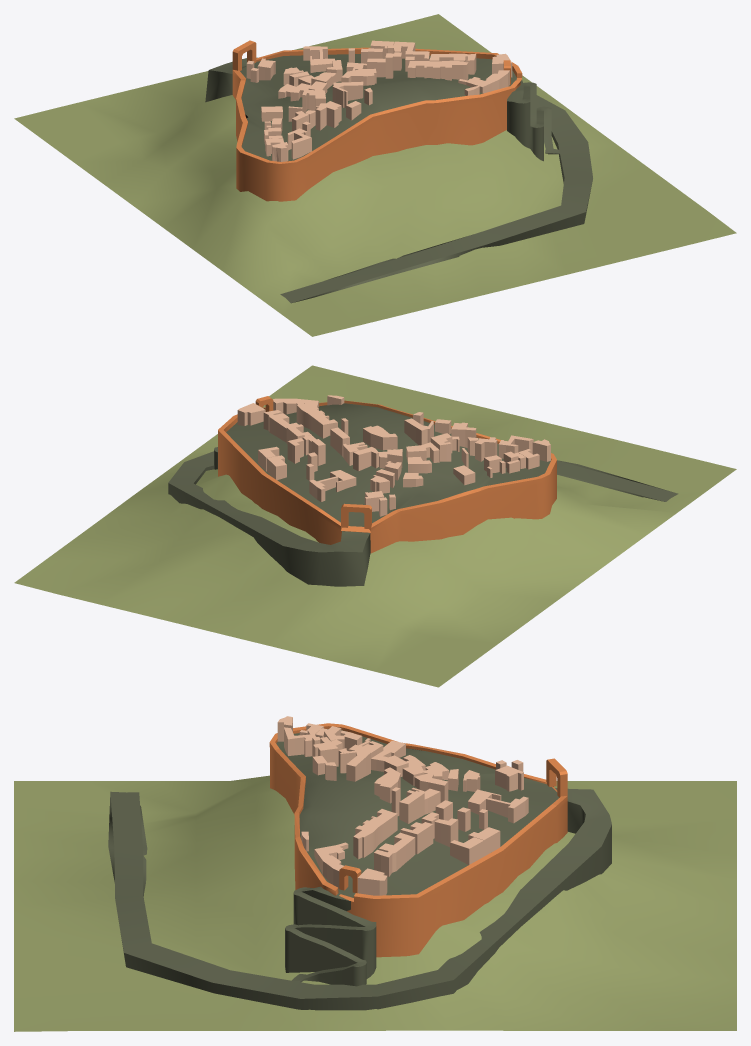
Rendered from ville_v15.fbx.
The picture shows the model from 3 angles, top to bottom: view 1: azimuth 30°, elevation 25°; view 2: azimuth 150°, elevation 25°; view 3: azimuth 270°, elevation 25°; orthographic projection. The views are drawn at different scales.
Visible parts, largest first — view 1: Ville; view 2: Ville; view 3: Ville.
Boxes of the visible parts, x1=… form: Ville: x1=14, y1=14, x2=736, y2=336; Ville: x1=14, y1=365, x2=736, y2=687; Ville: x1=14, y1=716, x2=736, y2=1031.
Size of the model in its own units: 986 by 242 by 1200.
